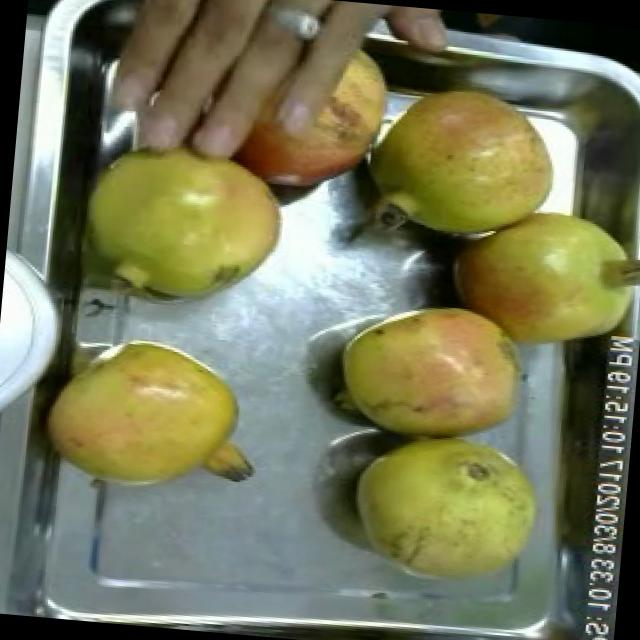fruit: (62, 116, 304, 325), (29, 320, 273, 511), (344, 67, 577, 260), (334, 420, 558, 600), (314, 284, 550, 453), (429, 188, 640, 365), (233, 0, 409, 212)
